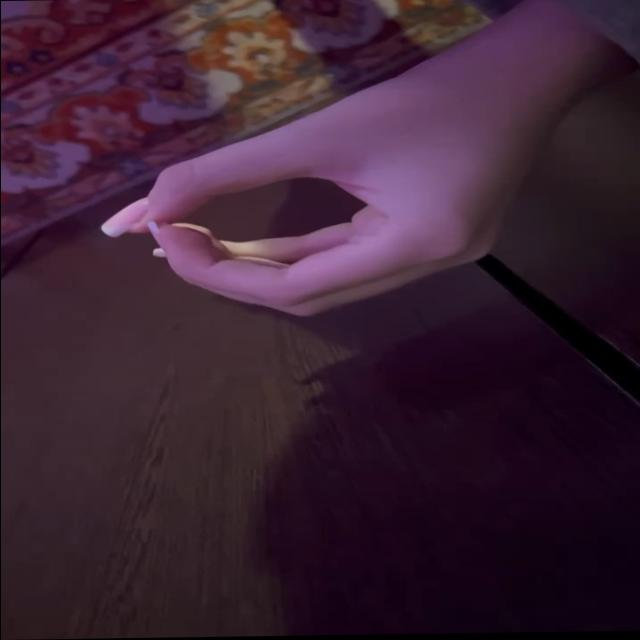e: (104, 66, 495, 334)
